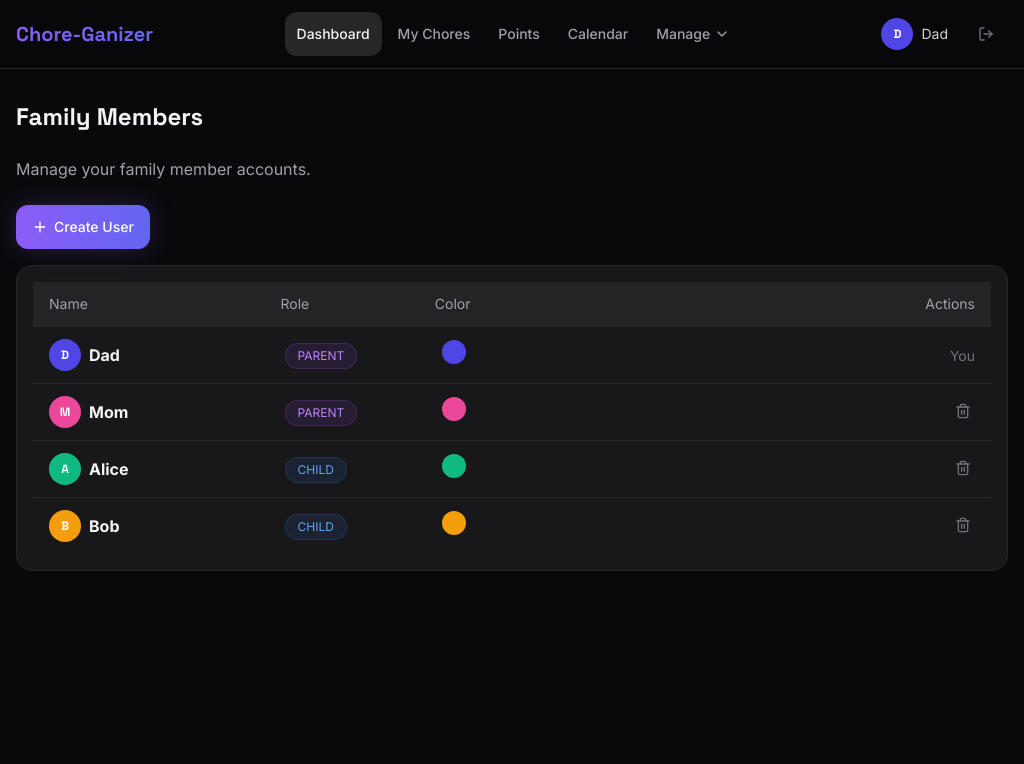
UsersPage › shows create form when Create User clicked
What coordinates should you click on to do the following:
click the button "Create User"
I would click on:
 (83, 227)
Its box is [16,205,150,249].
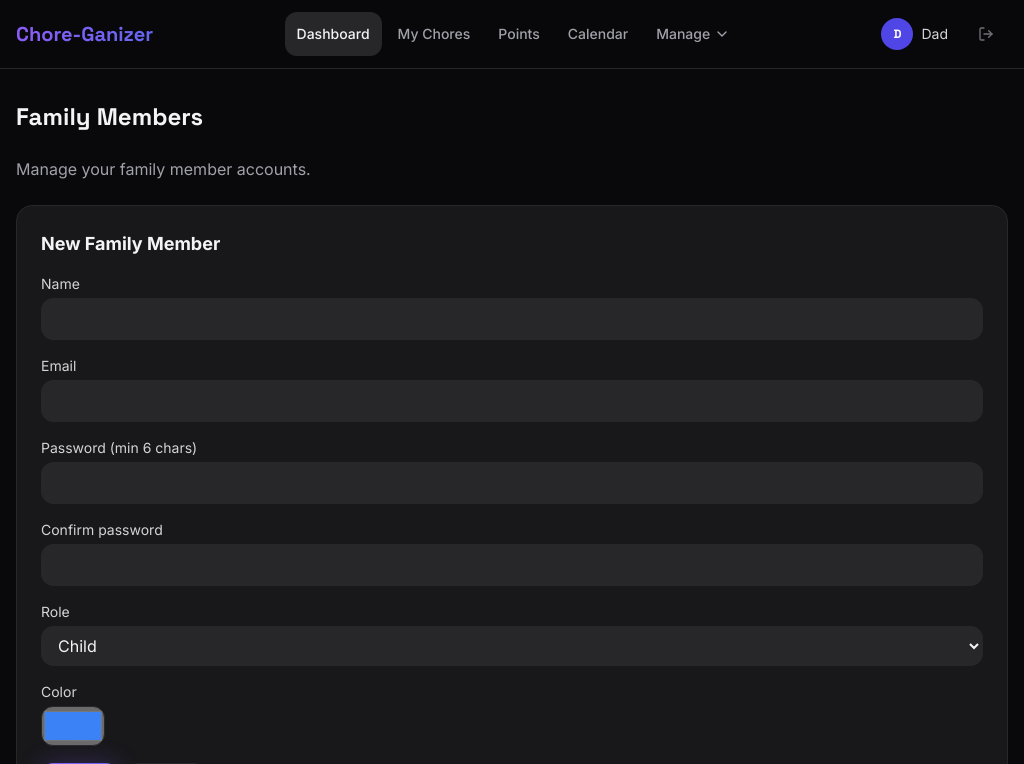
Now the dropdown labelled "Role" is shown, box [41,626,983,666]
